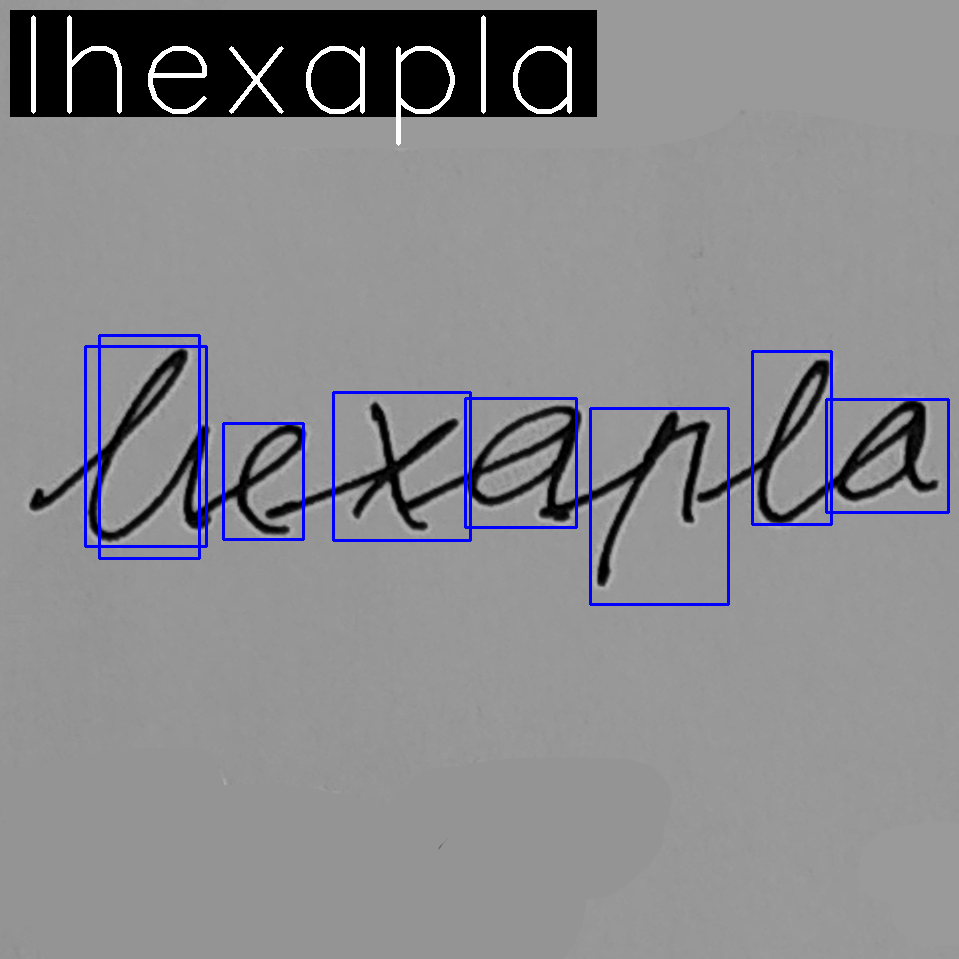a: (464, 401, 584, 522), (835, 396, 942, 503)
e: (235, 421, 310, 538)
h: (85, 346, 213, 542)
l: (753, 358, 834, 526)
p: (594, 409, 712, 588)
x: (348, 400, 459, 533)
